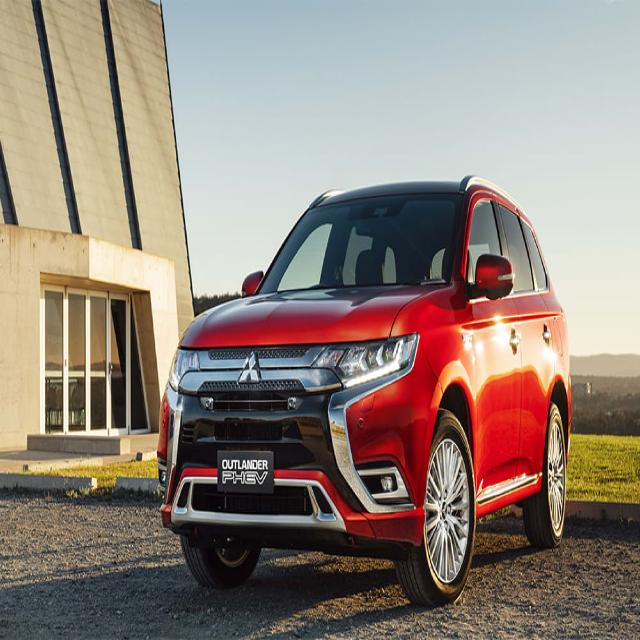light_vehicle: (156, 176, 573, 609)
